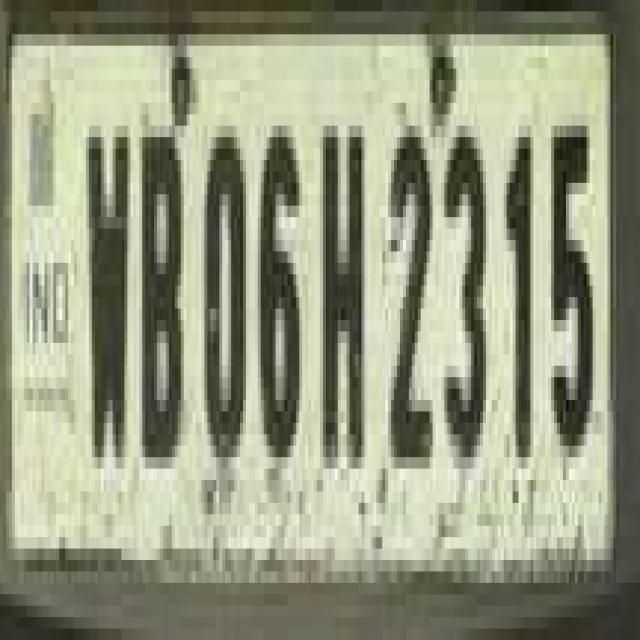license_plate: (0, 0, 616, 605)
